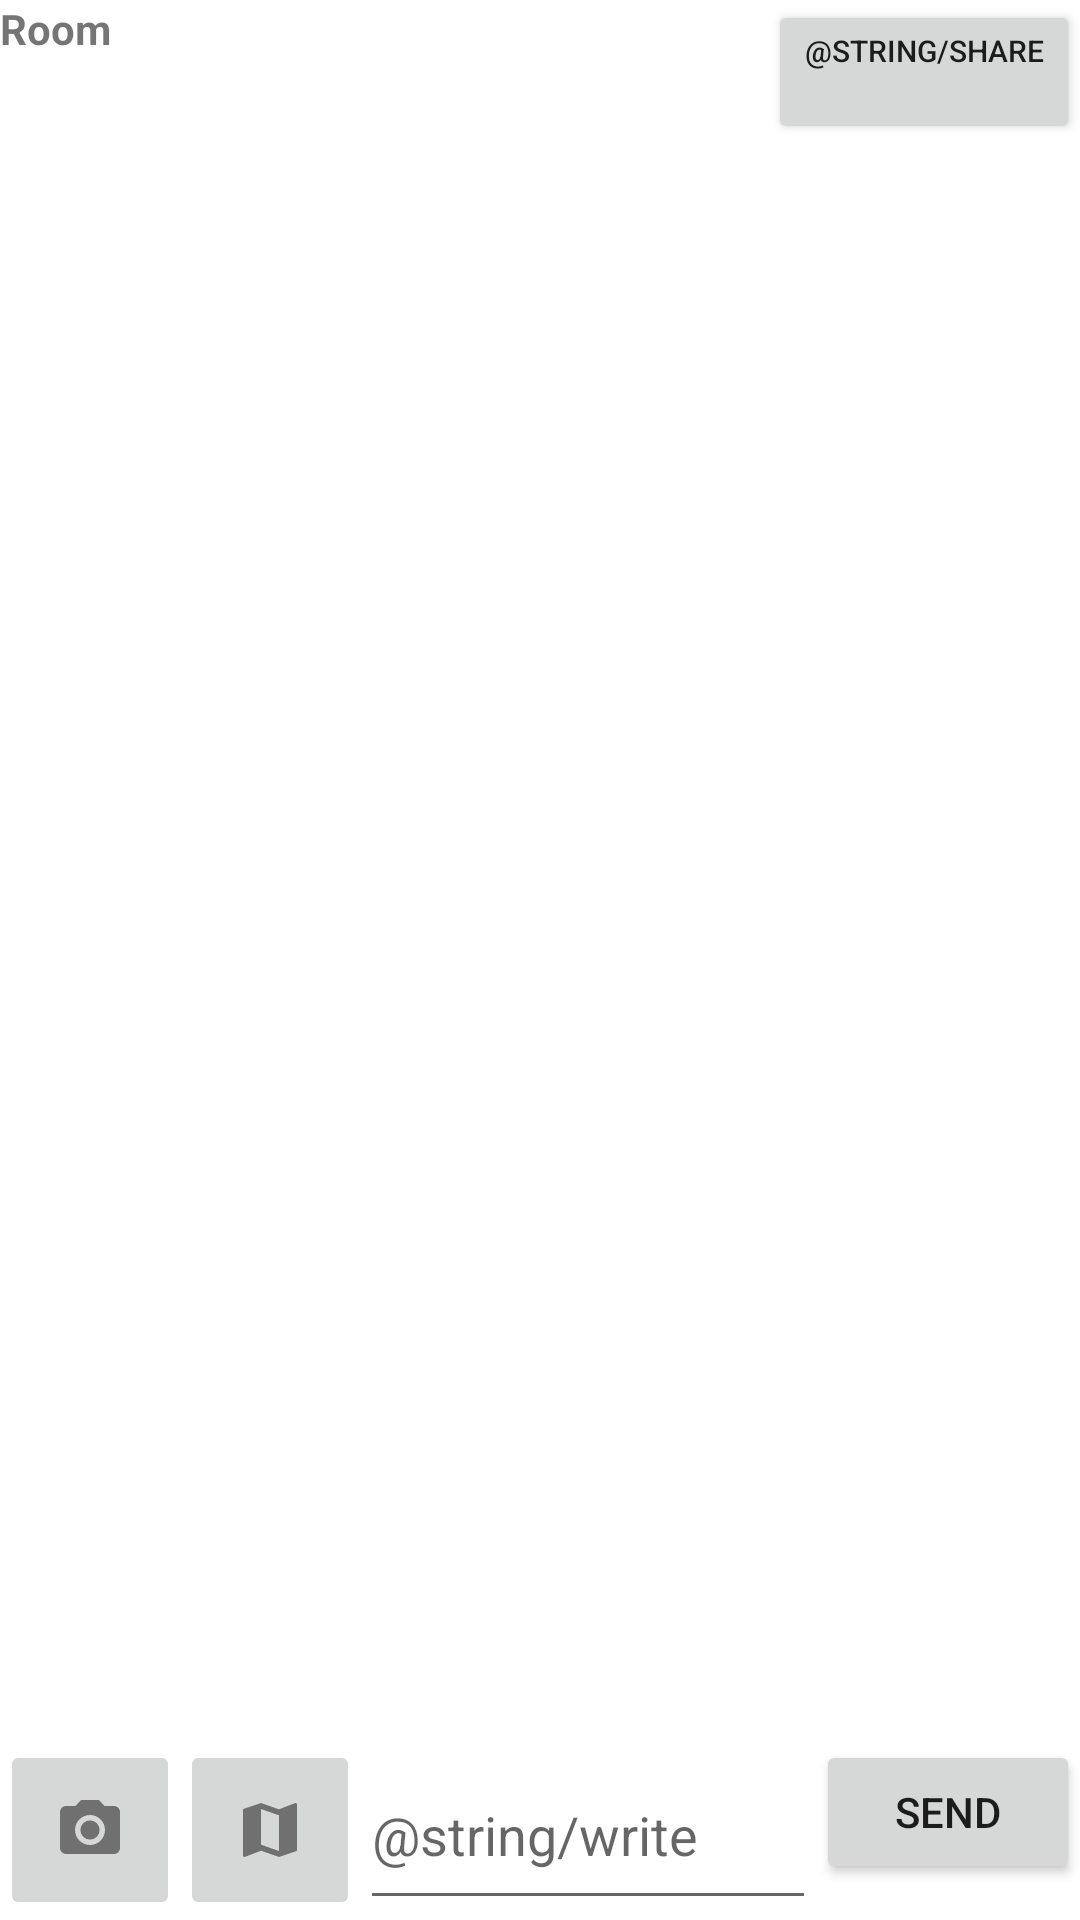

Screen size 1080 × 1920. Icon name, then its box in pixels as [left=x1, top=y1, right=x2, bottom=y2]:
camera: [left=12, top=1758, right=168, bottom=1902]
map: [left=192, top=1758, right=348, bottom=1902]
